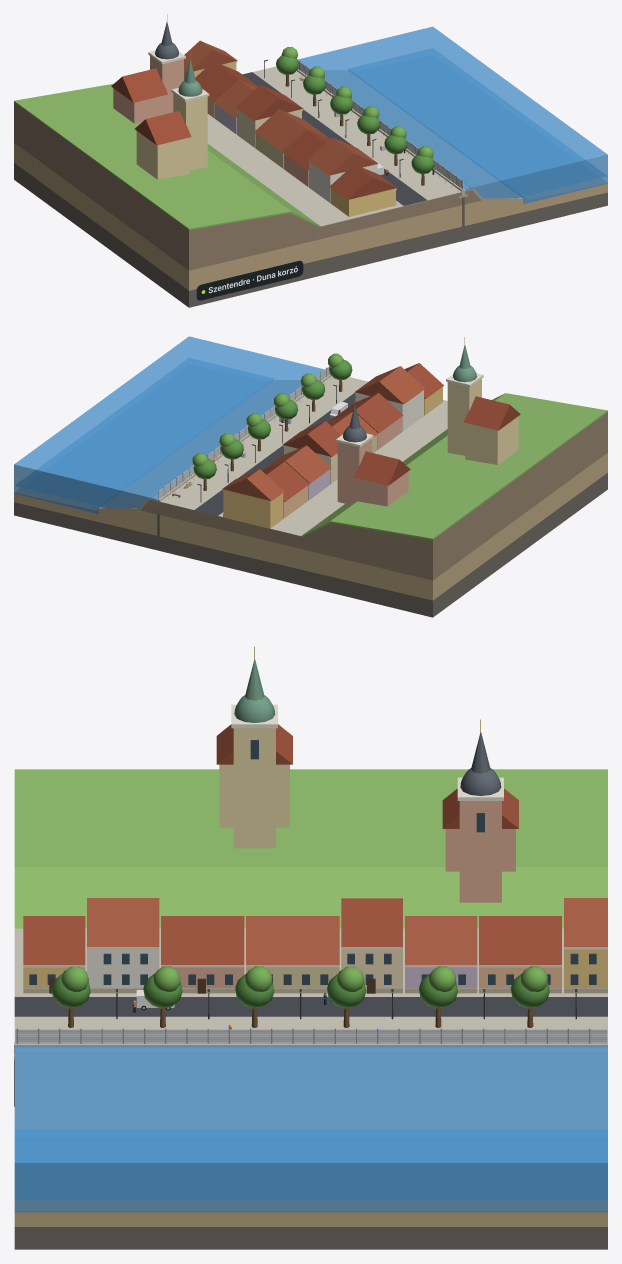
Rendered from mobilgat.glb.
3 renders of one model, top to bottom at view 1: azimuth 30°, elevation 25°; view 2: azimuth 150°, elevation 25°; view 3: azimuth 270°, elevation 25°, orthographic. The views are drawn at different scales.
Visible parts, largest first — view 1: arviz_m, kisviz, varos_m_a08d77, varos_m_8fbf6a, varos_m_c9b48c, varos_m_d3cdbf, varos_m_77706a, varos_m_9c4f38 (×2), varos_m_a65a40, varos_m_b9b2a4, varos_m_f2e3b0, varos_m_e9b8a0 (+11 smaller); view 2: arviz_m, kisviz, varos_m_a08d77, varos_m_8fbf6a, varos_m_c9b48c, varos_m_77706a, varos_m_d3cdbf, varos_m_9c4f38 (×2), varos_m_b9b2a4, varos_m_a65a40, varos_m_f2e3b0, varos_m_e9b8a0 (+9 smaller); view 3: arviz_m, varos_m_8fbf6a, kisviz, varos_m_b9b2a4, varos_m_9c4f38 (×2), varos_m_c9b48c, varos_m_a65a40, varos_m_77706a, varos_m_d3cdbf, varos_m_4a4e55, sor_m_d6dadd (×6), varos_m_f2e3b0 (+17 smaller).
Part boxes in pixels (x1=…): arviz_m: x1=298, y1=26, x2=607, y2=198; kisviz: x1=348, y1=49, x2=607, y2=204; varos_m_a08d77: x1=14, y1=102, x2=481, y2=270; varos_m_8fbf6a: x1=14, y1=83, x2=320, y2=230; varos_m_c9b48c: x1=14, y1=143, x2=607, y2=290; varos_m_d3cdbf: x1=207, y1=66, x2=471, y2=226; varos_m_77706a: x1=14, y1=163, x2=607, y2=307; varos_m_9c4f38 (×2): x1=111, y1=61, x2=396, y2=199; varos_m_a65a40: x1=184, y1=40, x2=377, y2=175; varos_m_b9b2a4: x1=301, y1=62, x2=527, y2=200; varos_m_f2e3b0: x1=136, y1=93, x2=207, y2=179; varos_m_e9b8a0: x1=113, y1=56, x2=308, y2=186; arviz_m: x1=14, y1=336, x2=324, y2=508; kisviz: x1=14, y1=358, x2=273, y2=513; varos_m_a08d77: x1=140, y1=412, x2=607, y2=580; varos_m_8fbf6a: x1=301, y1=393, x2=607, y2=539; varos_m_c9b48c: x1=14, y1=452, x2=607, y2=600; varos_m_77706a: x1=14, y1=473, x2=607, y2=617; varos_m_d3cdbf: x1=150, y1=376, x2=447, y2=536; varos_m_9c4f38 (×2): x1=262, y1=363, x2=520, y2=501; varos_m_b9b2a4: x1=93, y1=370, x2=322, y2=510; varos_m_a65a40: x1=222, y1=366, x2=425, y2=501; varos_m_f2e3b0: x1=447, y1=379, x2=518, y2=464; varos_m_e9b8a0: x1=337, y1=416, x2=408, y2=506; arviz_m: x1=14, y1=1045, x2=607, y2=1199; varos_m_8fbf6a: x1=14, y1=769, x2=607, y2=928; kisviz: x1=14, y1=1130, x2=607, y2=1212; varos_m_b9b2a4: x1=15, y1=1052, x2=607, y2=1128; varos_m_9c4f38 (×2): x1=23, y1=724, x2=561, y2=964; varos_m_c9b48c: x1=14, y1=1200, x2=607, y2=1226; varos_m_a65a40: x1=87, y1=898, x2=607, y2=964; varos_m_77706a: x1=14, y1=1227, x2=607, y2=1249; varos_m_d3cdbf: x1=14, y1=928, x2=607, y2=1051; varos_m_4a4e55: x1=14, y1=997, x2=607, y2=1016; sor_m_d6dadd (×6): x1=15, y1=1029, x2=607, y2=1043; varos_m_f2e3b0: x1=219, y1=728, x2=289, y2=848.
Bounding box in the file's own units: 0.58 × 0.247 × 0.4204.
Materials: 54 (1 with a texture image).
